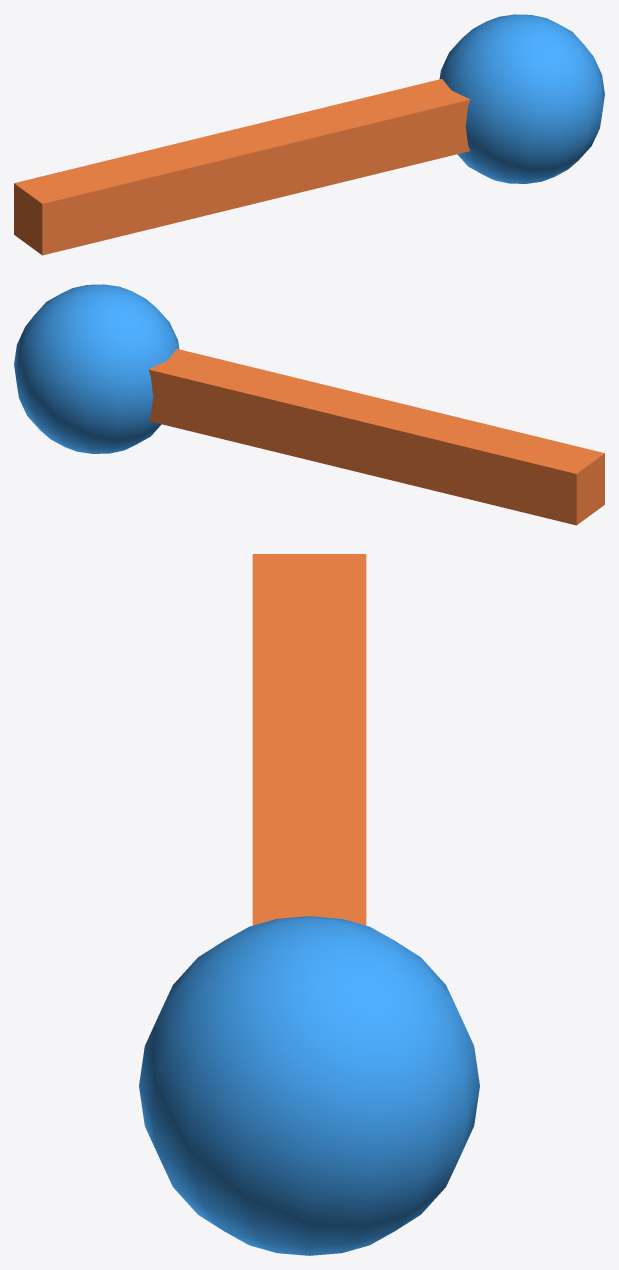
File: spinner.glb
The picture shows the model from 3 angles, top to bottom: view 1: azimuth 30°, elevation 25°; view 2: azimuth 150°, elevation 25°; view 3: azimuth 270°, elevation 25°; orthographic projection. The views are drawn at different scales.
Parts seen in each view (by area): view 1: Bar, Tip; view 2: Bar, Tip; view 3: Tip, Bar.
Boxes of the visible parts, <box> form: Bar: <box>14,79,470,255</box>; Tip: <box>439,14,604,183</box>; Bar: <box>148,349,604,525</box>; Tip: <box>14,284,179,453</box>; Tip: <box>139,916,479,1255</box>; Bar: <box>252,554,366,925</box>.
Size of the model in its own units: 2.3 by 0.6 by 0.6.
